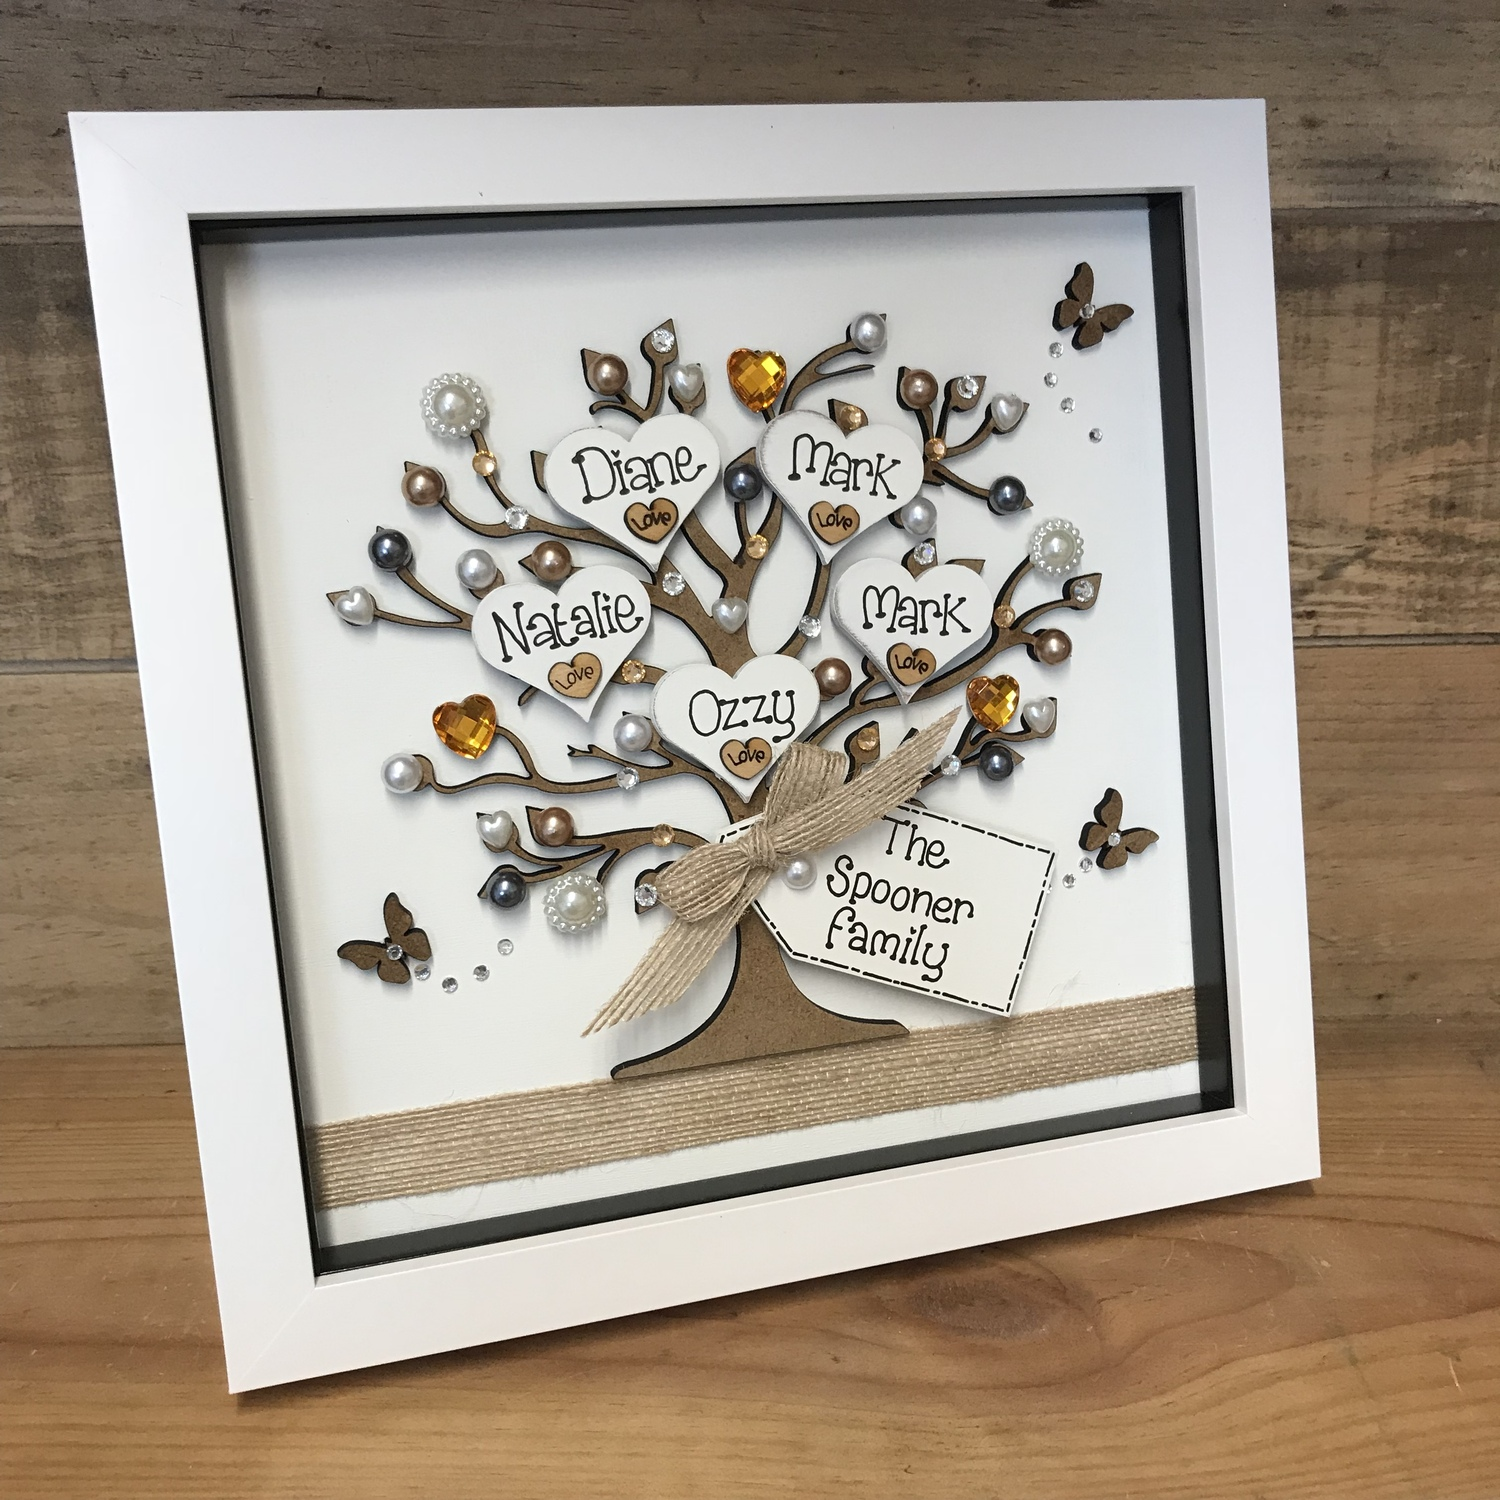foto: (15, 58, 1500, 1478)
